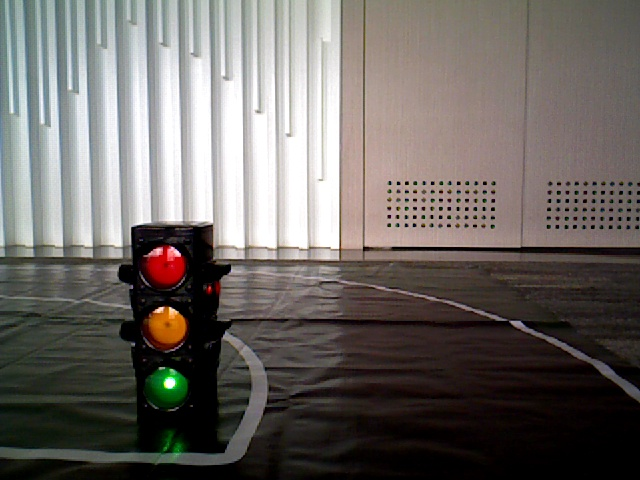green: (131, 235, 208, 422)
